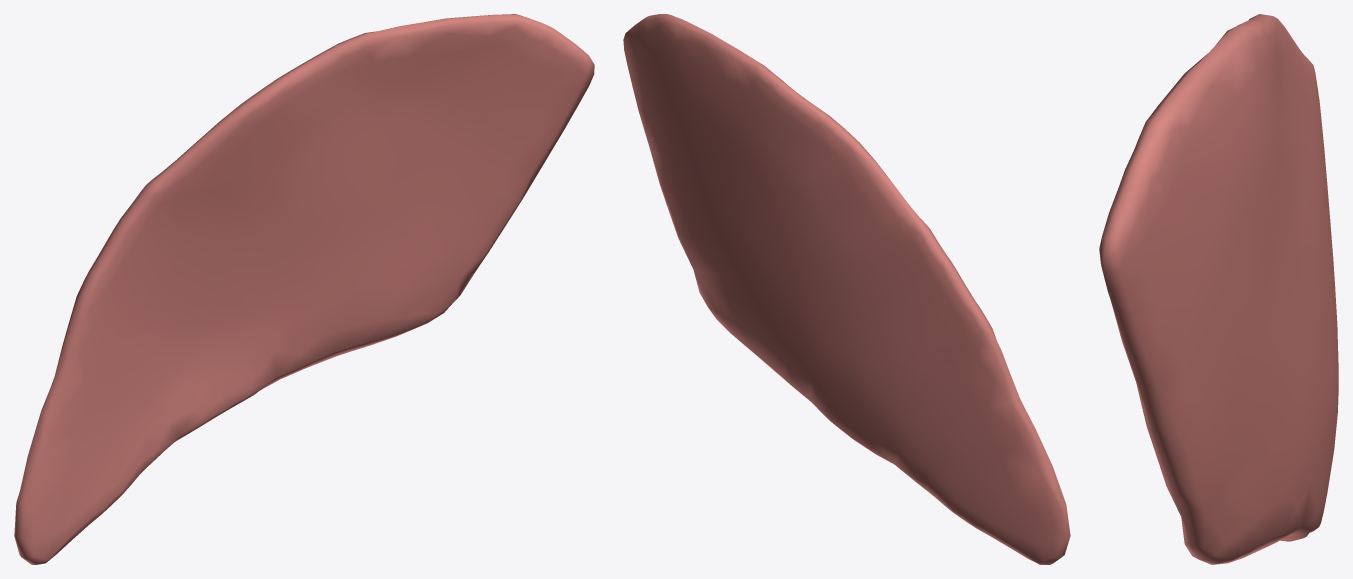
3 renders of one model, left to right at view 1: azimuth 30°, elevation 25°; view 2: azimuth 150°, elevation 25°; view 3: azimuth 270°, elevation 25°, orthographic. The views are drawn at different scales.
Parts seen in each view (by area): view 1: ZA_84283e2880e9d0d1; view 2: ZA_84283e2880e9d0d1; view 3: ZA_84283e2880e9d0d1.
Part boxes in pixels (x1=…): ZA_84283e2880e9d0d1: x1=14, y1=14, x2=594, y2=564; ZA_84283e2880e9d0d1: x1=623, y1=14, x2=1070, y2=564; ZA_84283e2880e9d0d1: x1=1099, y1=14, x2=1338, y2=564.
Size of the model in its own units: 0.016 by 0.0135 by 0.00373.
